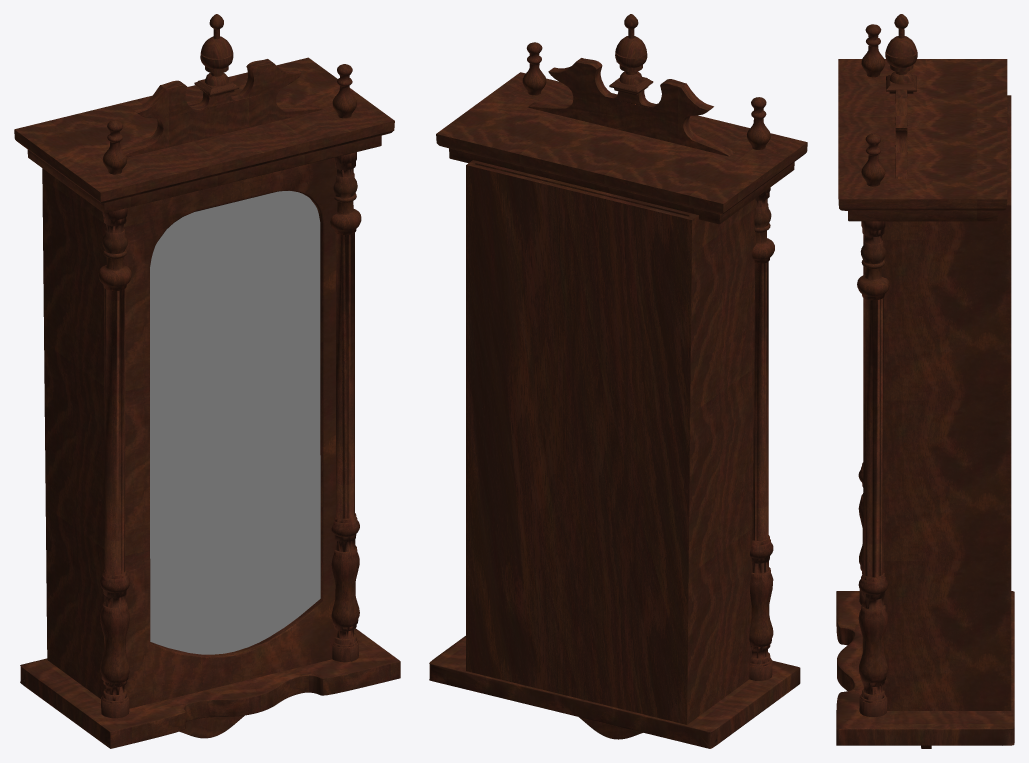
File: Clock 2.FBX
The picture shows the model from 3 angles, left to right: view 1: azimuth 30°, elevation 25°; view 2: azimuth 150°, elevation 25°; view 3: azimuth 270°, elevation 25°; orthographic projection. The views are drawn at different scales.
Visible parts, largest first — view 1: clock 2; view 2: clock 2; view 3: clock 2.
Boxes of the visible parts, x1=… form: clock 2: x1=14, y1=14, x2=400, y2=748; clock 2: x1=429, y1=14, x2=807, y2=748; clock 2: x1=836, y1=14, x2=1014, y2=748.
Size of the model in its own units: 40.47 by 94.62 by 21.41.
